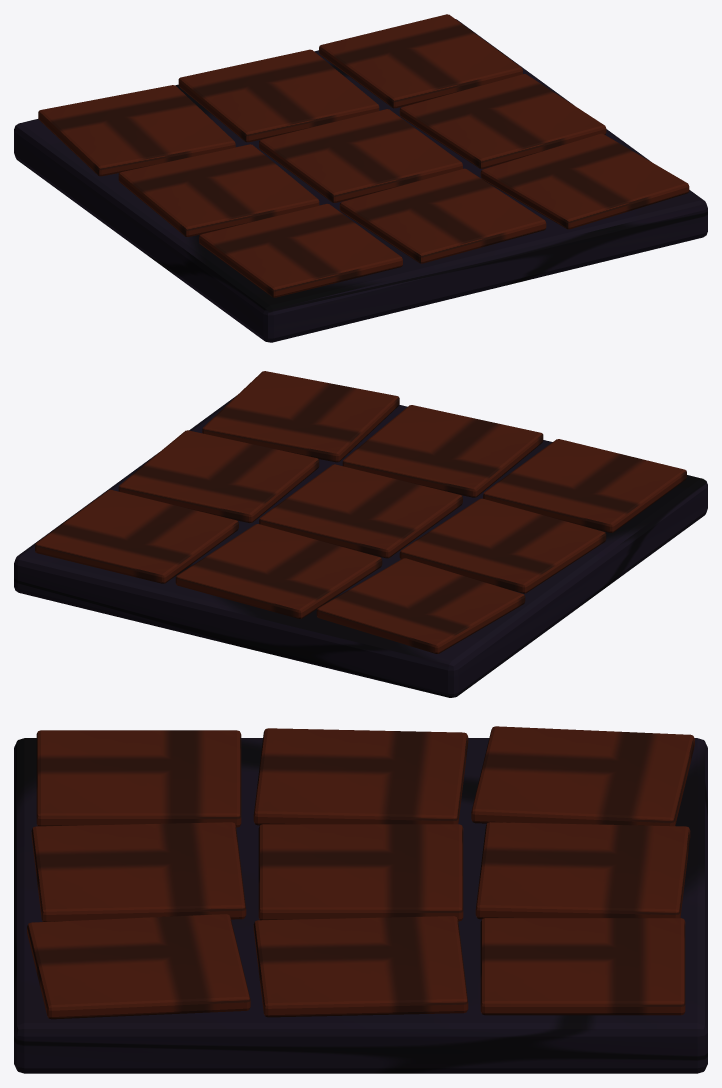
File: SM_FC_FloorTile_400.fbx
3 views of the same model, one above another, from view 1: azimuth 30°, elevation 25°; view 2: azimuth 150°, elevation 25°; view 3: azimuth 270°, elevation 25° (orthographic). The views are drawn at different scales.
Visible parts, largest first — view 1: SM_FC_FloorTile_400; view 2: SM_FC_FloorTile_400; view 3: SM_FC_FloorTile_400.
Part boxes in pixels (x1,y1,x2,y2): SM_FC_FloorTile_400: (14, 14, 707, 342); SM_FC_FloorTile_400: (14, 371, 707, 697); SM_FC_FloorTile_400: (14, 726, 707, 1073).
Size of what is drawn, in the model's own units: 4 by 0.415 by 4.
